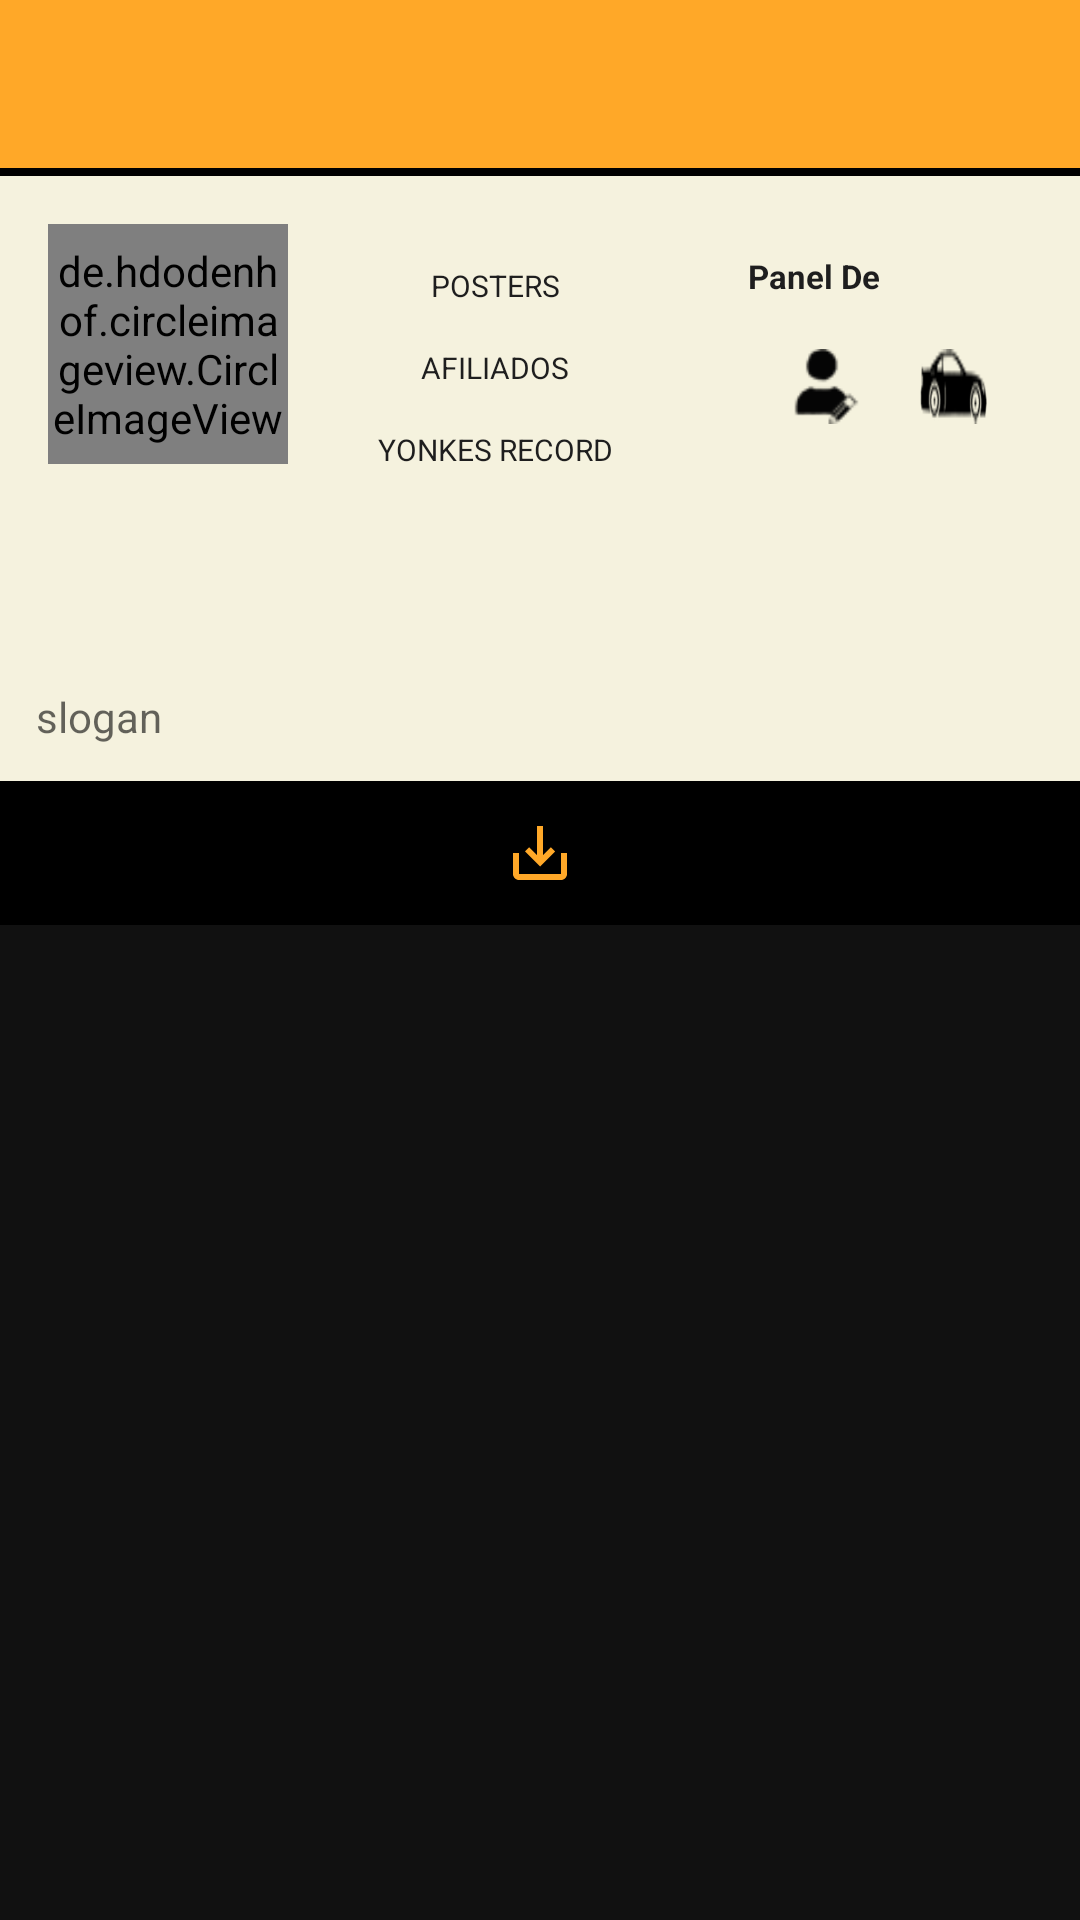

Where to tap for icons on this 1080 x 1920 app screen, as (x=x, y=y):
carrohp: (x=953, y=386)
